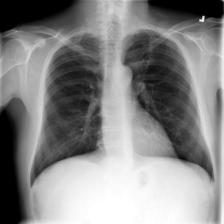normal: (25, 24, 216, 187)
